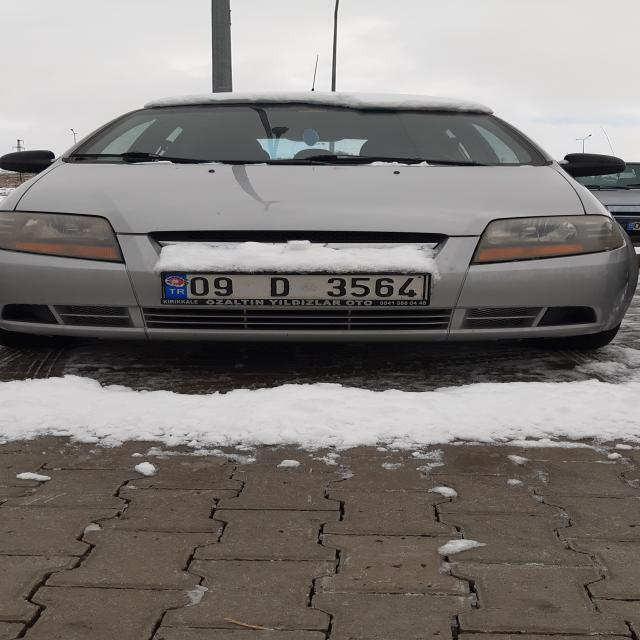license_plate: (162, 273, 426, 300)
